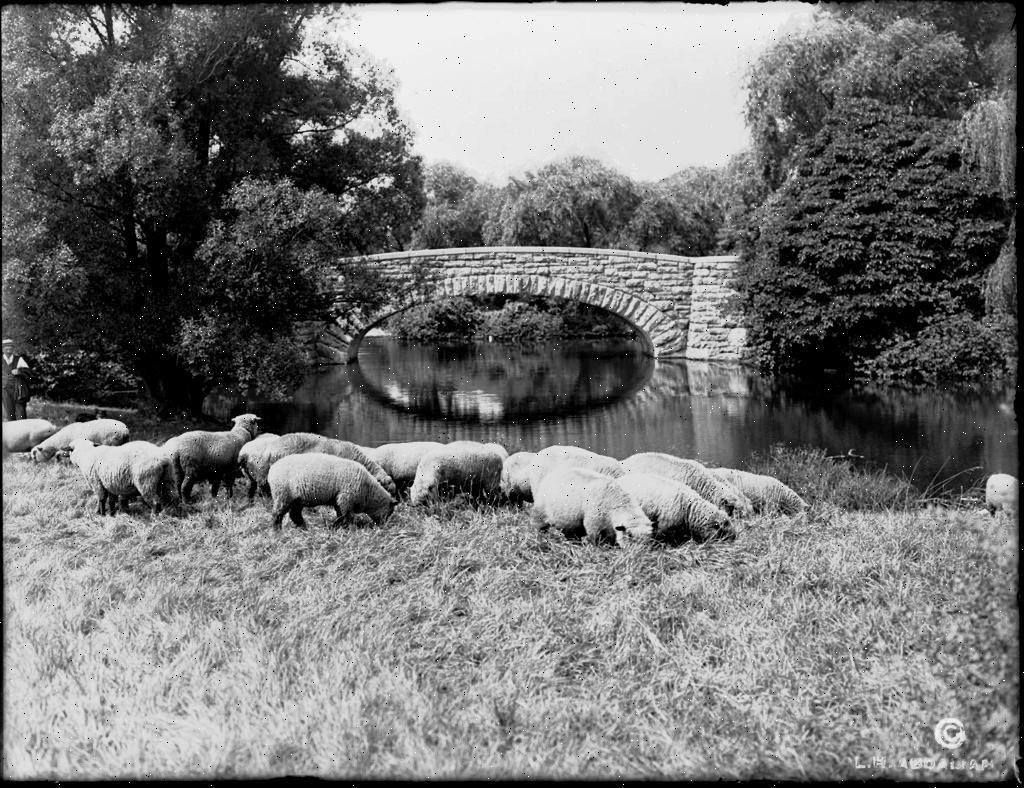Sheep: (258, 450, 414, 550), (522, 456, 662, 567), (58, 426, 180, 524), (616, 470, 734, 546), (162, 412, 262, 501), (407, 440, 509, 506), (518, 445, 620, 505), (708, 466, 812, 518), (30, 418, 128, 464), (367, 441, 443, 497), (282, 434, 368, 462), (110, 439, 162, 481), (2, 418, 58, 456), (156, 434, 192, 484), (704, 466, 748, 504), (626, 452, 704, 472), (364, 459, 397, 498), (482, 442, 510, 467)
